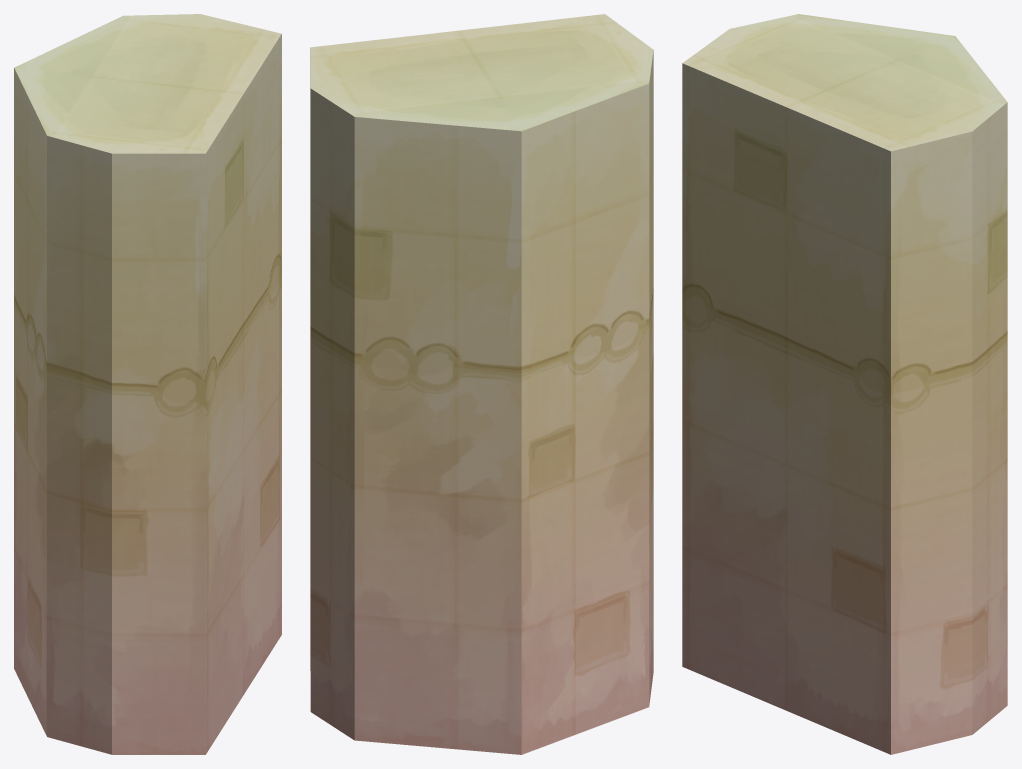
File: academy_tower.fbx
3 renders of one model, left to right at view 1: azimuth 30°, elevation 25°; view 2: azimuth 150°, elevation 25°; view 3: azimuth 270°, elevation 25°, orthographic. The views are drawn at different scales.
Parts seen in each view (by area): view 1: Academy Tower; view 2: Academy Tower; view 3: Academy Tower.
Boxes of the visible parts, x1,y1,x2,y2 form: Academy Tower: (14, 14, 281, 754); Academy Tower: (310, 14, 653, 754); Academy Tower: (682, 14, 1007, 754).
Bounding box in the file's own units: 1325 × 2713 × 1325.
